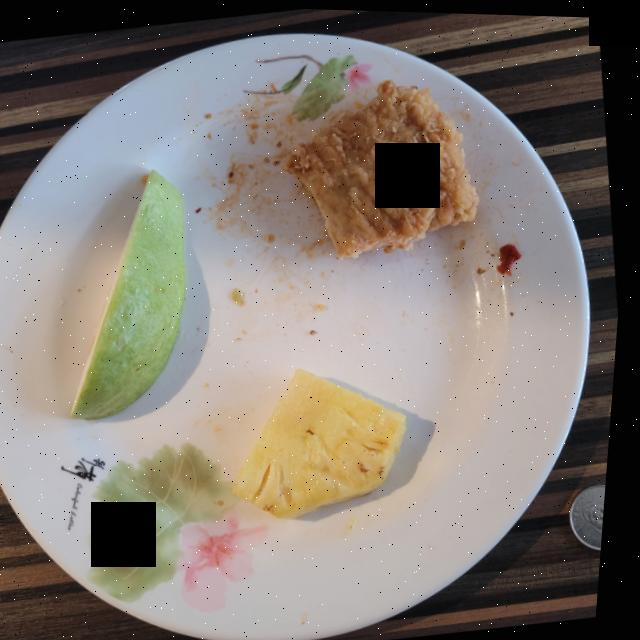coin: (577, 480, 613, 546)
fried chicken cutlet: (286, 77, 481, 255)
guava -sliced-: (77, 169, 190, 418)
pineapple: (241, 366, 412, 516)
